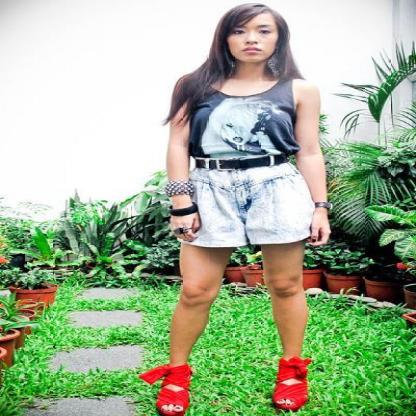shirt: (187, 82, 299, 171)
shoe: (156, 357, 312, 415)
skirt: (187, 163, 314, 251)
